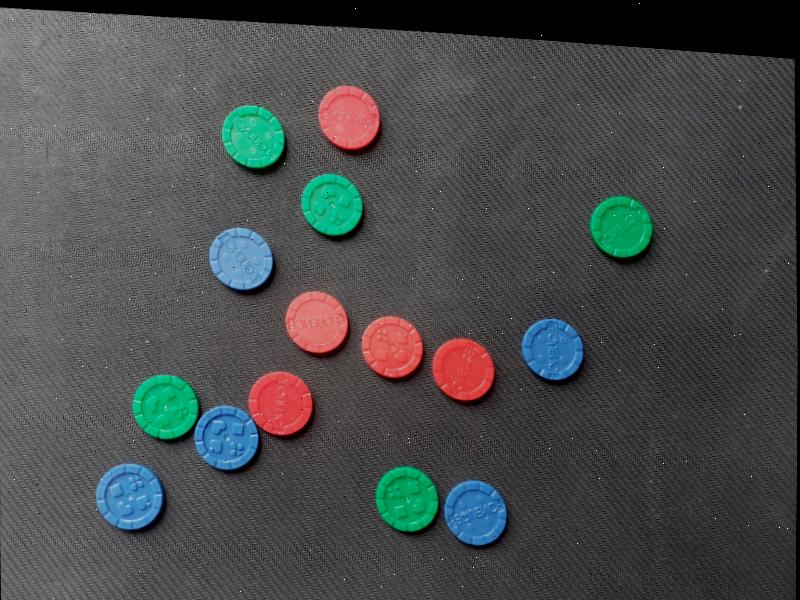Blue_Token: (84, 445, 175, 541), (511, 303, 600, 398), (187, 401, 274, 490), (436, 477, 512, 562), (203, 215, 277, 300)
Green_Token: (581, 165, 674, 282), (208, 83, 300, 182), (122, 364, 208, 462), (284, 159, 373, 249), (366, 444, 443, 545)
Red_Token: (279, 241, 370, 366), (339, 293, 432, 396), (299, 66, 390, 170), (417, 328, 499, 434), (245, 352, 319, 441)
